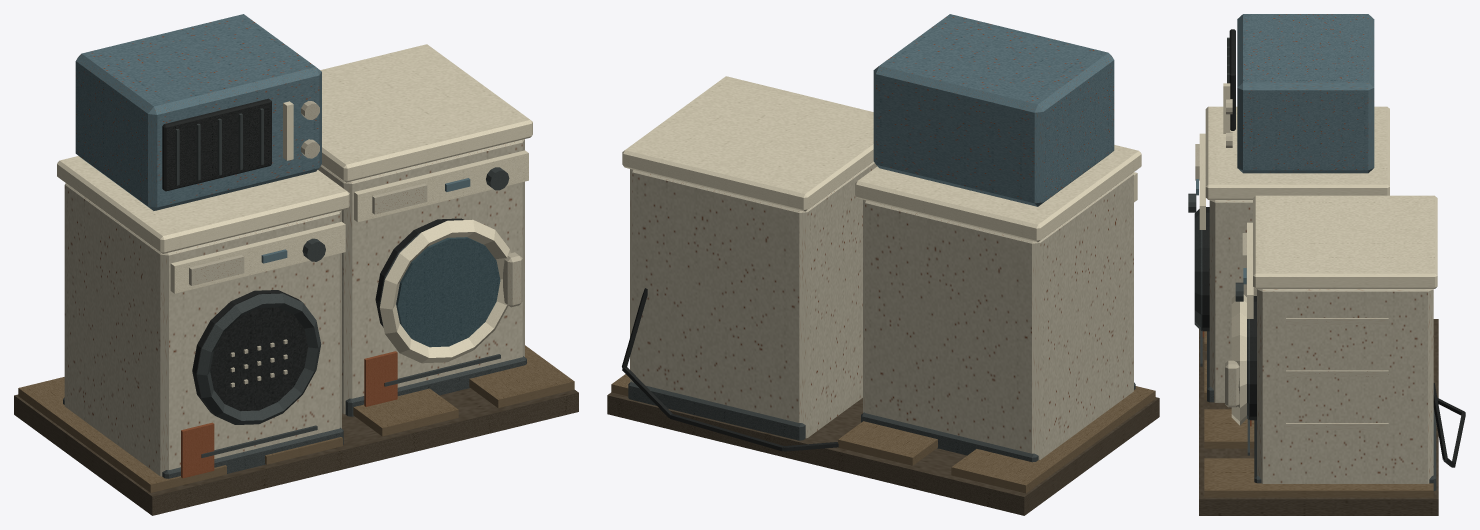
The model's file is CompactWasherLot.fbx.
3 renders of one model, left to right at view 1: azimuth 30°, elevation 25°; view 2: azimuth 150°, elevation 25°; view 3: azimuth 270°, elevation 25°, orthographic. The views are drawn at different scales.
Visible parts, largest first — view 1: CompactWasherLot; view 2: CompactWasherLot; view 3: CompactWasherLot.
Part boxes in pixels (x1,y1,x2,y2): CompactWasherLot: (14, 14, 578, 515); CompactWasherLot: (607, 14, 1159, 515); CompactWasherLot: (1188, 14, 1465, 515).
Size of the model in its own units: 162 by 140 by 105.
1 material, 1 textured.
